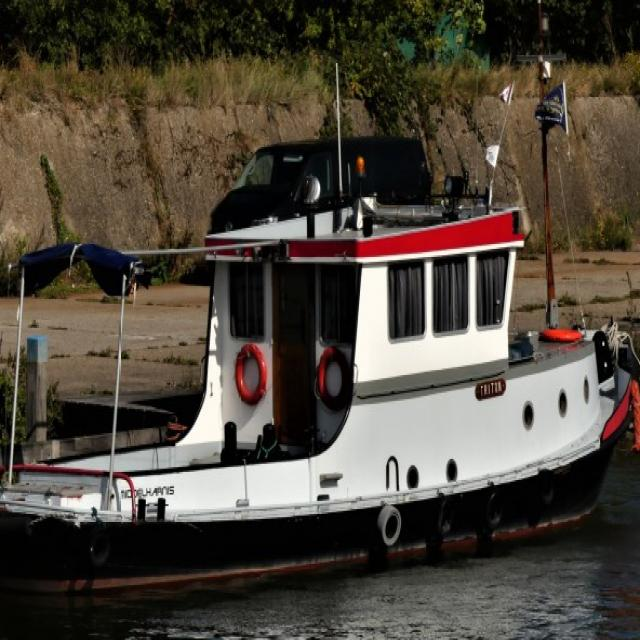tugboat: (1, 1, 640, 639)
